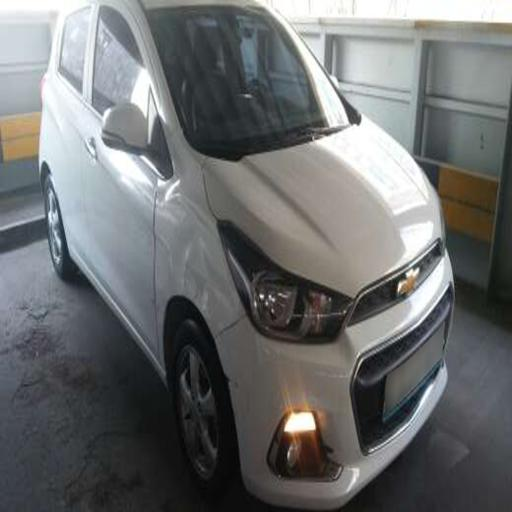scratch: (169, 177, 281, 414)
